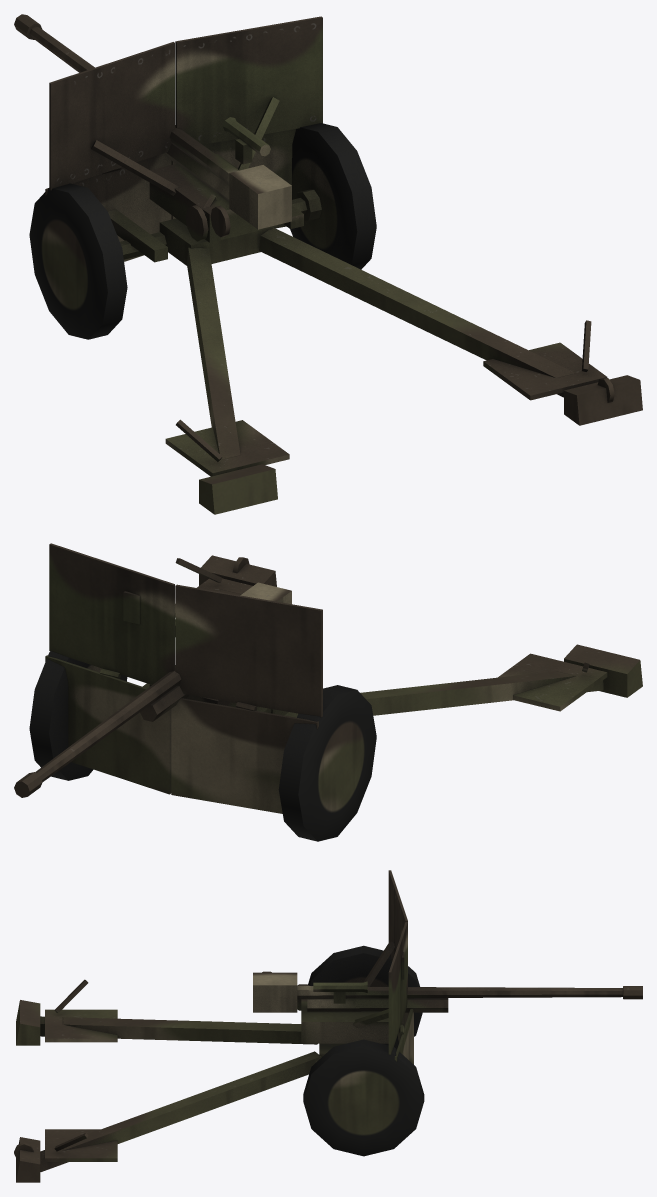
Rendered from WZ36_BOFORS_MID.fbx.
3 views of the same model, one above another, from view 1: azimuth 30°, elevation 25°; view 2: azimuth 150°, elevation 25°; view 3: azimuth 270°, elevation 25° (orthographic). The views are drawn at different scales.
Parts seen in each view (by area): view 1: Tourelle_01, Bras_Droit, Roue_G1, Bras_Gauche, Roue_D1, Axe_Canon_01, Chassis, Canon_01; view 2: Tourelle_01, Roue_G1, Bras_Gauche, Roue_D1, Canon_01, Bras_Droit, Axe_Canon_01; view 3: Roue_D1, Bras_Droit, Bras_Gauche, Tourelle_01, Axe_Canon_01, Canon_01, Roue_G1.
Boxes of the visible parts, <box> form: Tourelle_01: <box>45,16,322,261</box>; Bras_Droit: <box>259,227,642,425</box>; Roue_G1: <box>29,183,127,339</box>; Bras_Gauche: <box>165,247,289,514</box>; Roue_D1: <box>290,123,376,269</box>; Axe_Canon_01: <box>165,117,291,241</box>; Chassis: <box>108,189,321,265</box>; Canon_01: <box>14,14,239,184</box>; Tourelle_01: <box>45,543,322,813</box>; Roue_G1: <box>278,685,376,841</box>; Bras_Gauche: <box>271,644,642,715</box>; Roue_D1: <box>29,651,127,780</box>; Canon_01: <box>14,668,181,797</box>; Bras_Droit: <box>175,555,276,617</box>; Axe_Canon_01: <box>140,582,291,721</box>; Roue_D1: <box>303,1039,424,1156</box>; Bras_Droit: <box>14,1051,321,1182</box>; Bras_Gauche: <box>16,979,317,1045</box>; Tourelle_01: <box>301,870,413,1064</box>; Axe_Canon_01: <box>253,971,448,1012</box>; Canon_01: <box>297,985,642,999</box>; Roue_G1: <box>308,945,422,1048</box>.
Size of the model in its own units: 189 by 312 by 101.
1 material, 1 textured.
